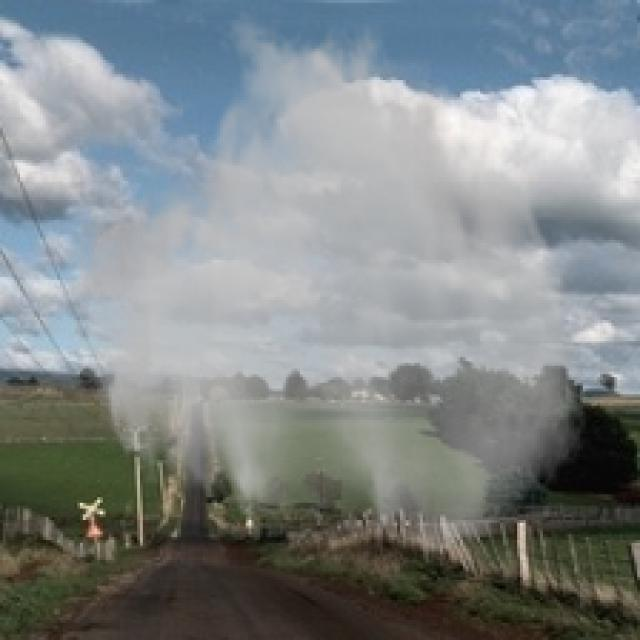Smoke: (66, 9, 592, 558)
